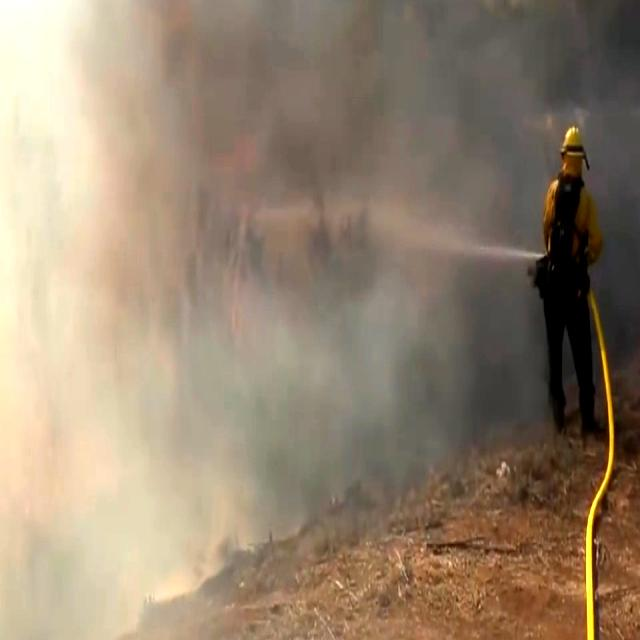smoke: (299, 0, 613, 156), (0, 0, 283, 142)
